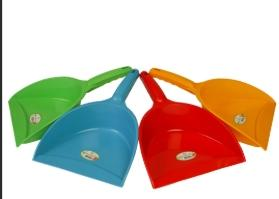PELLE: (2, 5, 279, 199)
